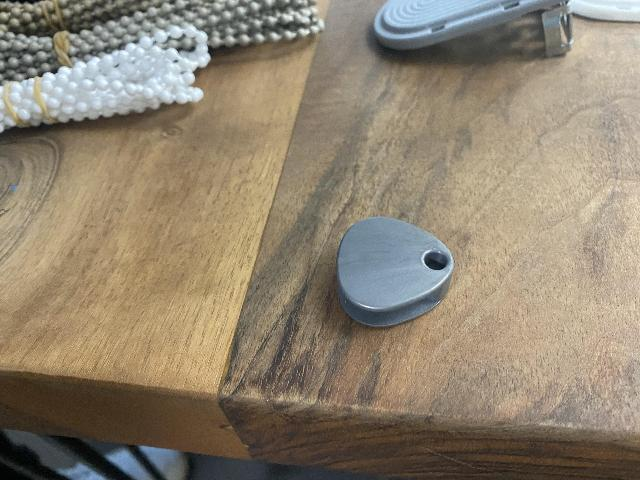Plastik: (373, 0, 576, 70), (341, 211, 459, 311)
